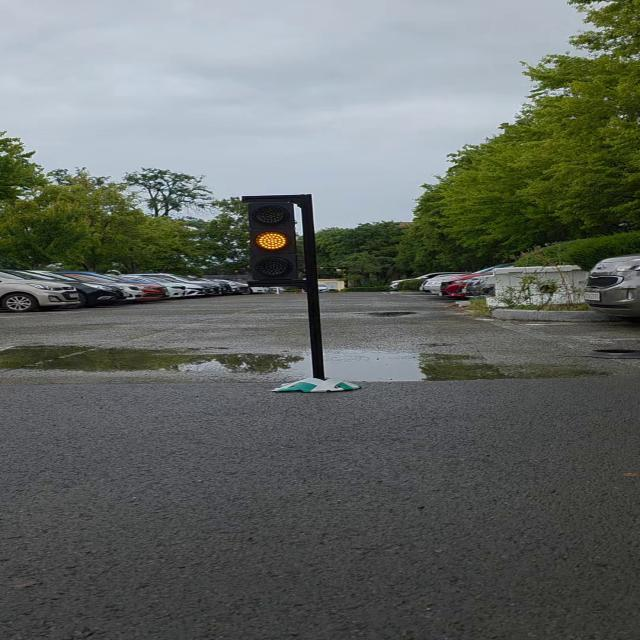yellow: (239, 195, 317, 285)
